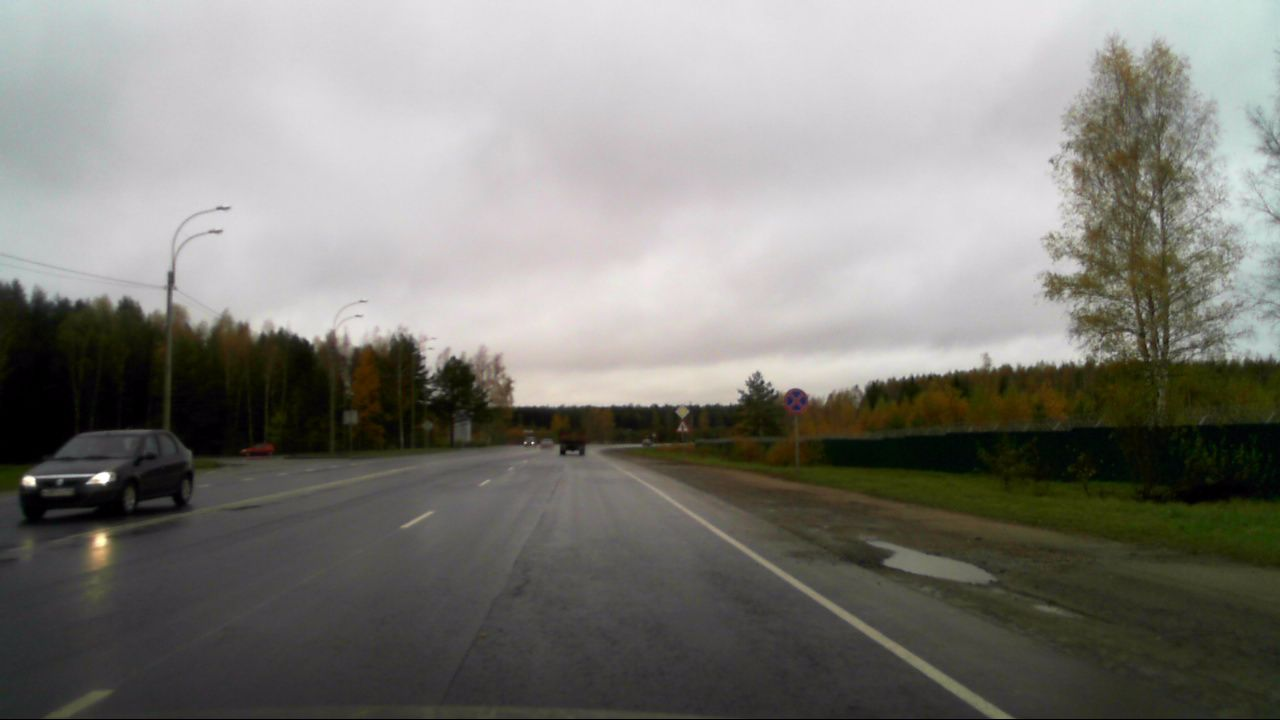No Parking: (782, 387, 810, 415)
